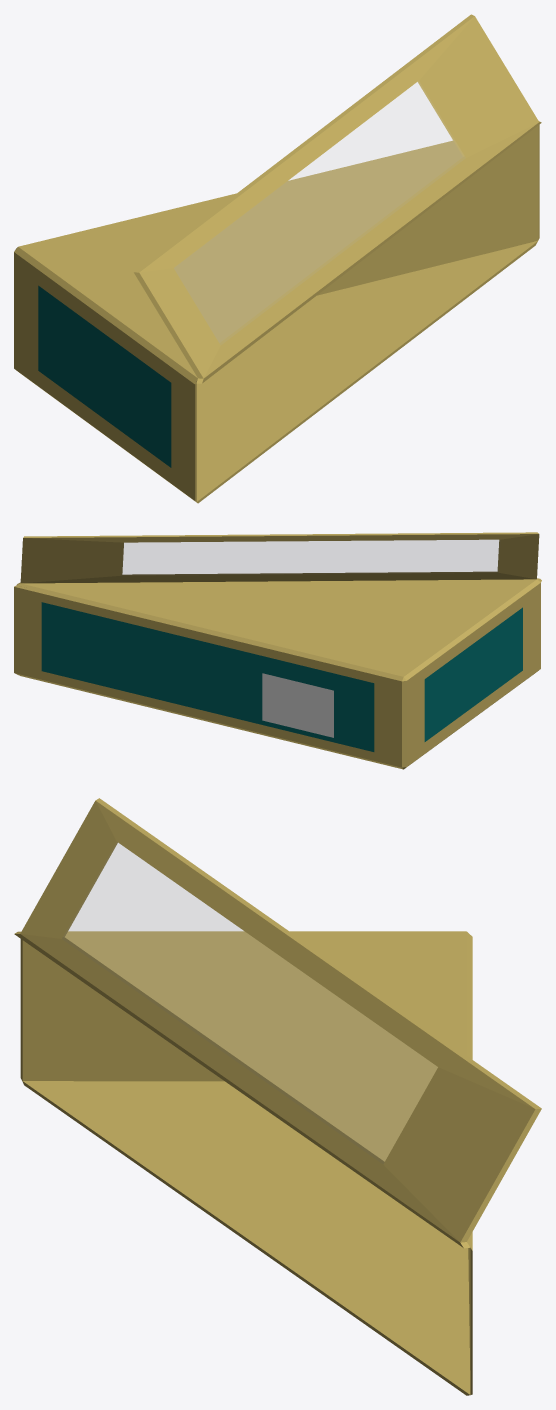
File: Sandwich Box Empty.fbx
The picture shows the model from 3 angles, top to bottom: view 1: azimuth 30°, elevation 25°; view 2: azimuth 150°, elevation 25°; view 3: azimuth 270°, elevation 25°; orthographic projection. The views are drawn at different scales.
Visible parts, largest first — view 1: pCube10; view 2: pCube10; view 3: pCube10.
Part boxes in pixels (x1,y1,x2,y2): pCube10: [14, 14, 541, 503]; pCube10: [14, 532, 541, 769]; pCube10: [14, 798, 541, 1395].
Size of the model in its own units: 17.68 by 6.58 by 11.79.
